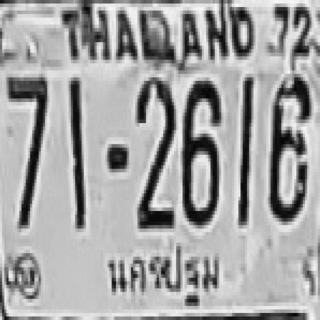N01: (69, 76, 84, 227), (69, 79, 84, 227), (238, 76, 251, 223)
N02: (135, 77, 174, 225)
N06: (268, 72, 309, 220), (180, 79, 219, 223)
N07: (5, 74, 46, 225)
P28: (106, 240, 222, 308)
